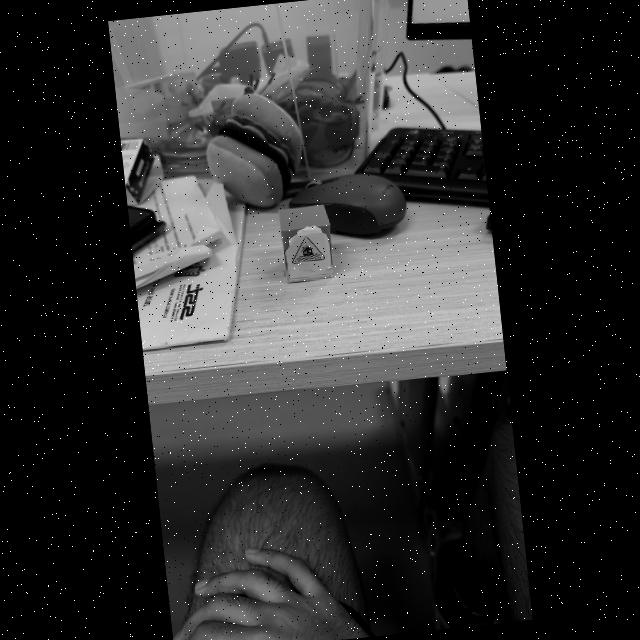Tsunami: (292, 237, 324, 262)
